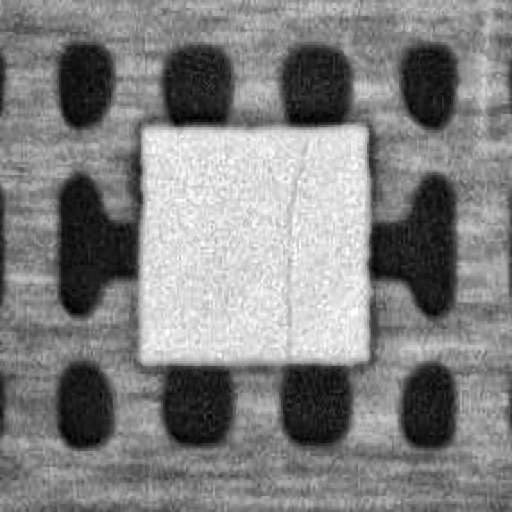DIE_CRACK: (281, 135, 308, 345)
